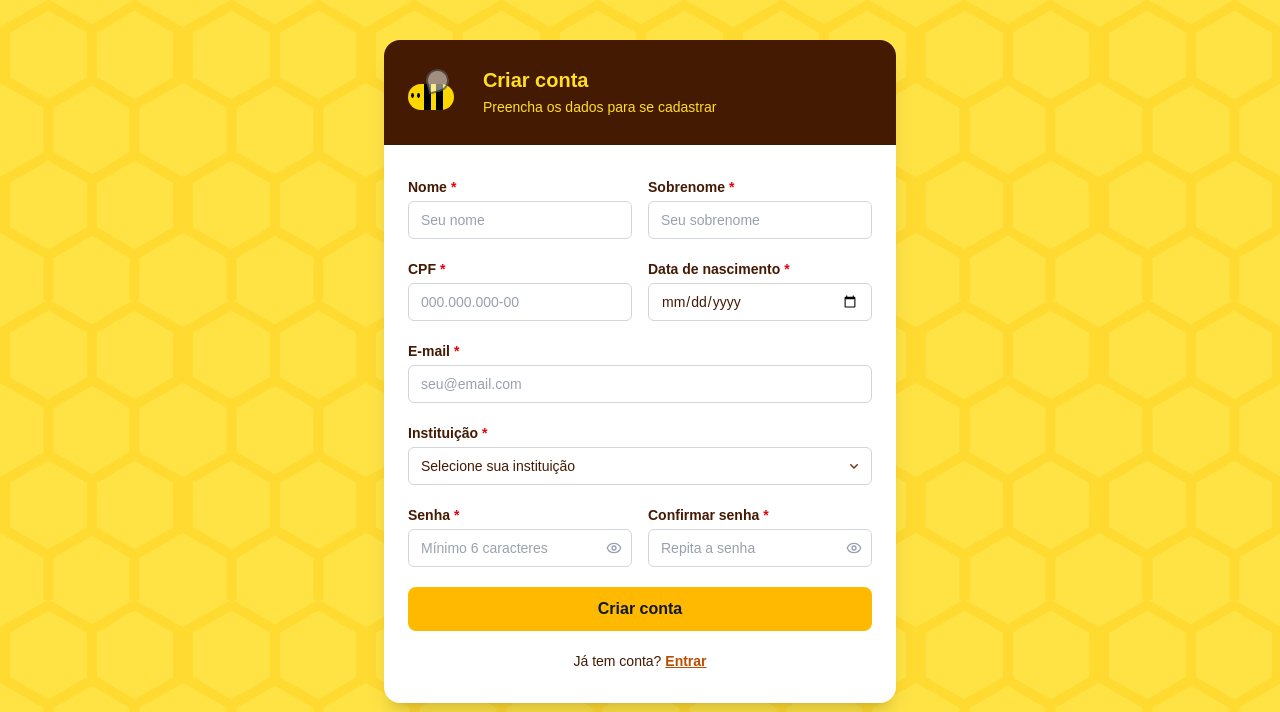
Test: Página de Cadastro — integração › valida e-mail inválido
Expected: the button "Criar conta" is shown, left=408, top=587, right=872, bottom=631
Type "Natália" into the field with id "nome" at [520, 220], box left=408, top=201, right=632, bottom=239
Type "Nogueira" into the field with id "sobrenome" at [760, 220], box left=648, top=201, right=872, bottom=239
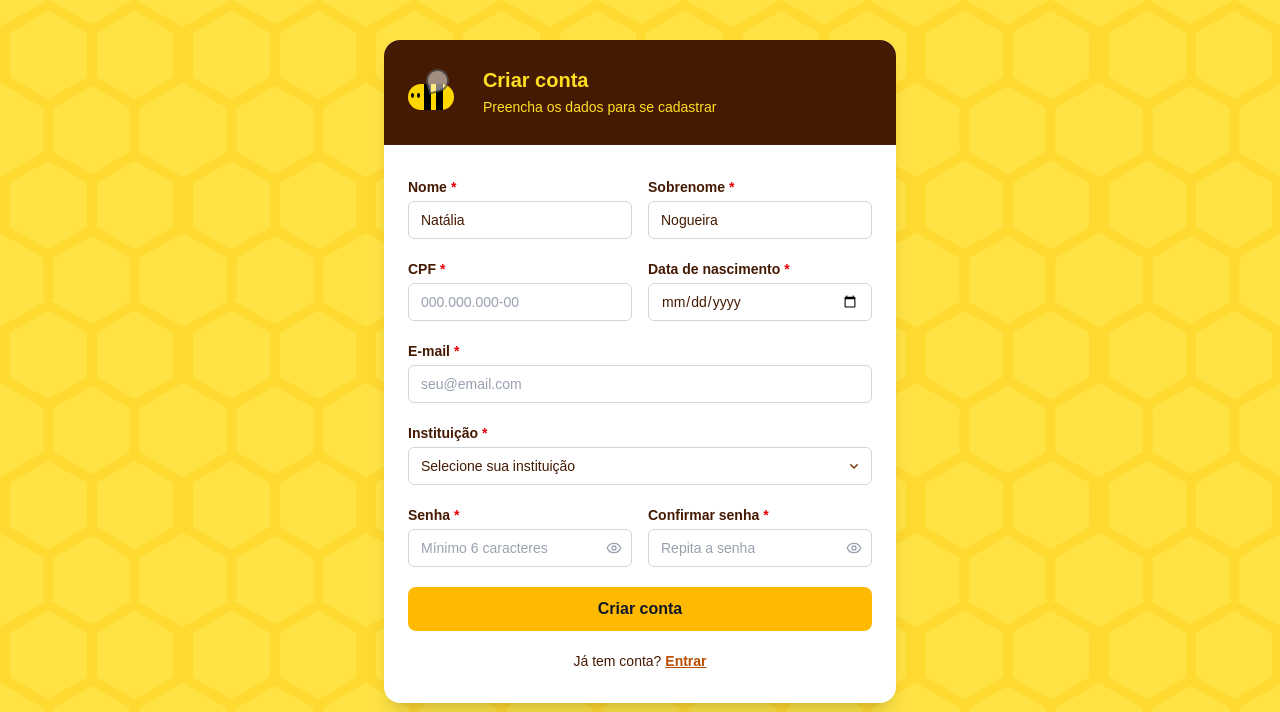
Type "16205343045" into the field with id "cpf" at [520, 302], box left=408, top=283, right=632, bottom=321
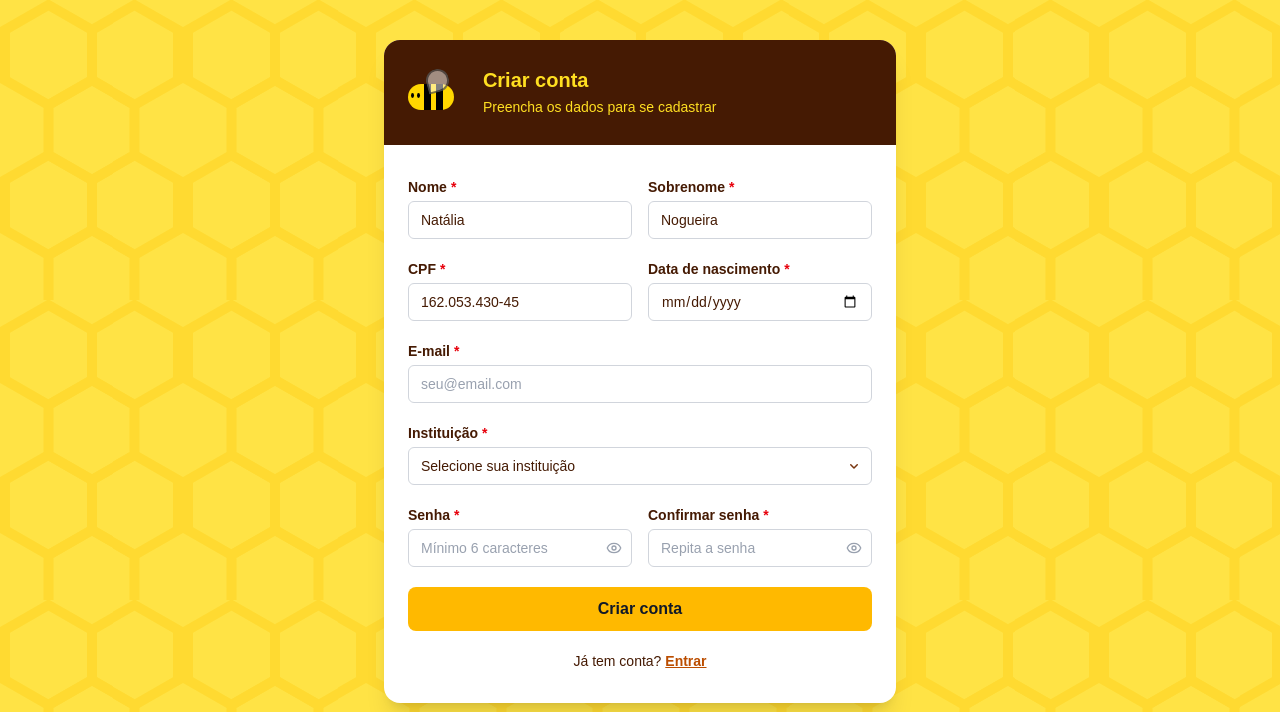
Type "2000-01-01" into the date field with id "dataNascimento" at [760, 302], box left=648, top=283, right=872, bottom=321
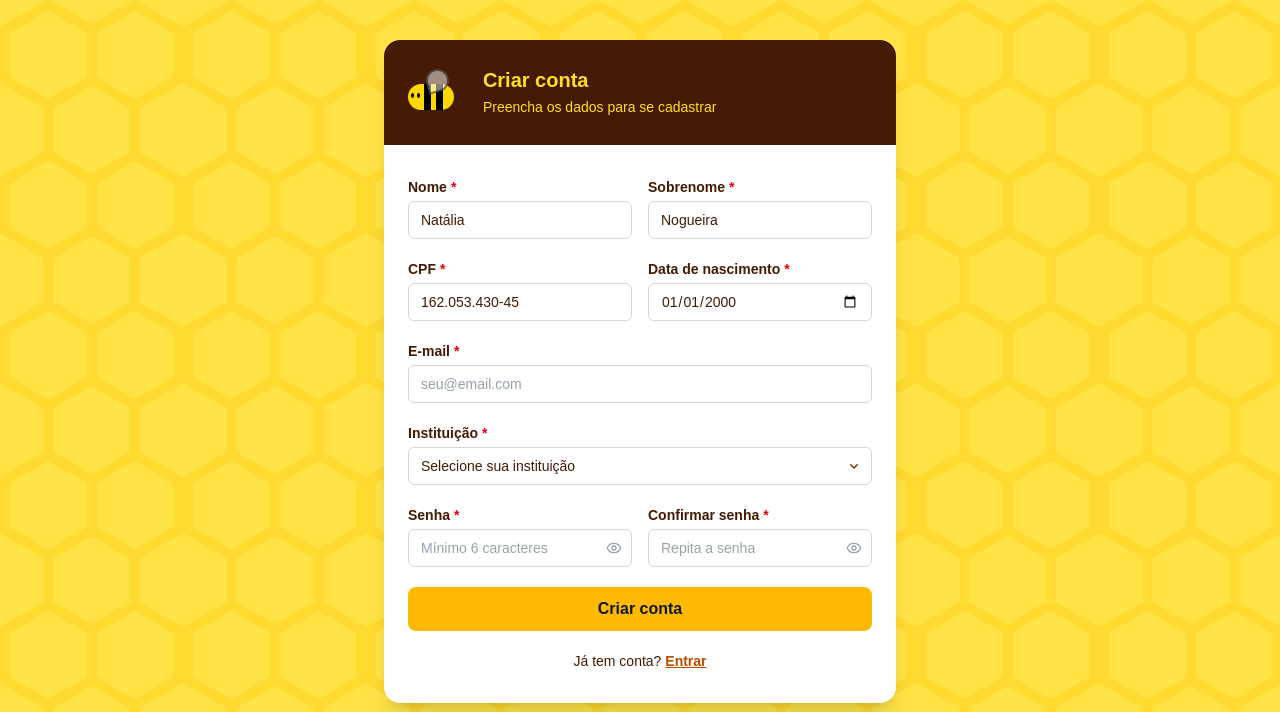
Type "emailinvalido" into the field with id "email" at [640, 384], box left=408, top=365, right=872, bottom=403
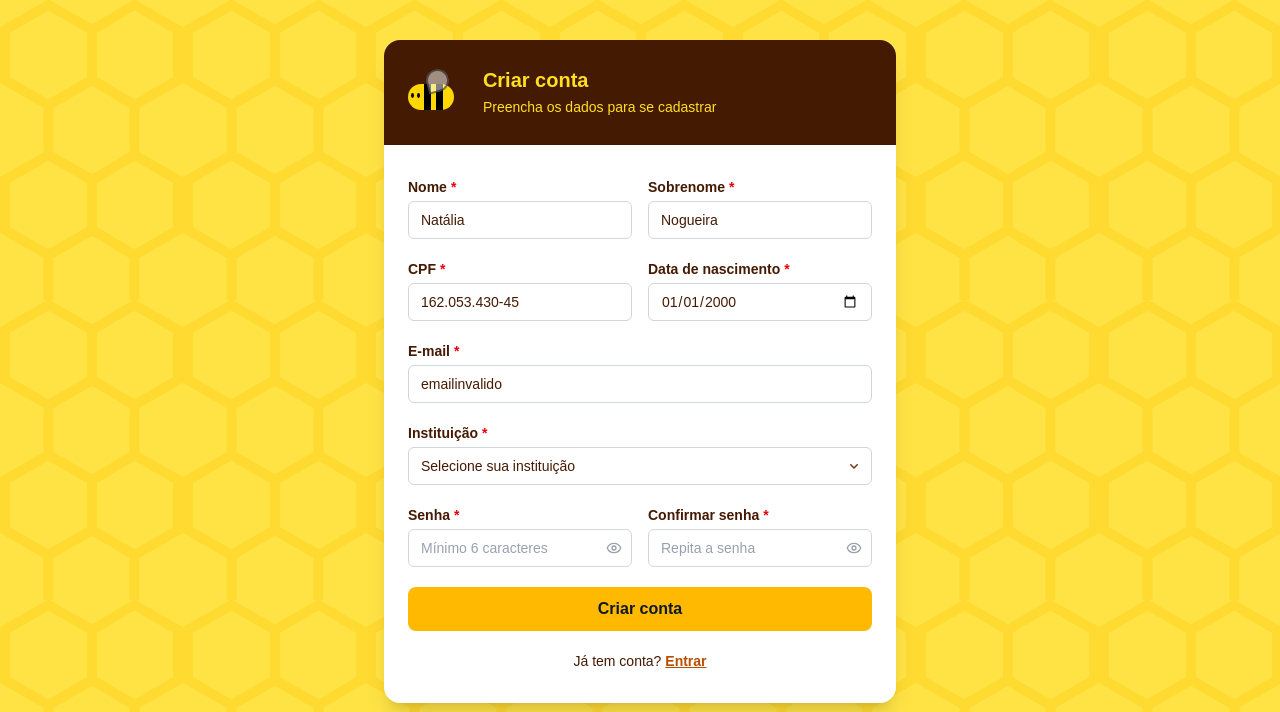
# Seleciona instituição para não travar antes do e-mail
Select "SENAI-SOR-1" in the dropdown with id "instituicao" at [640, 466], box left=408, top=447, right=872, bottom=485
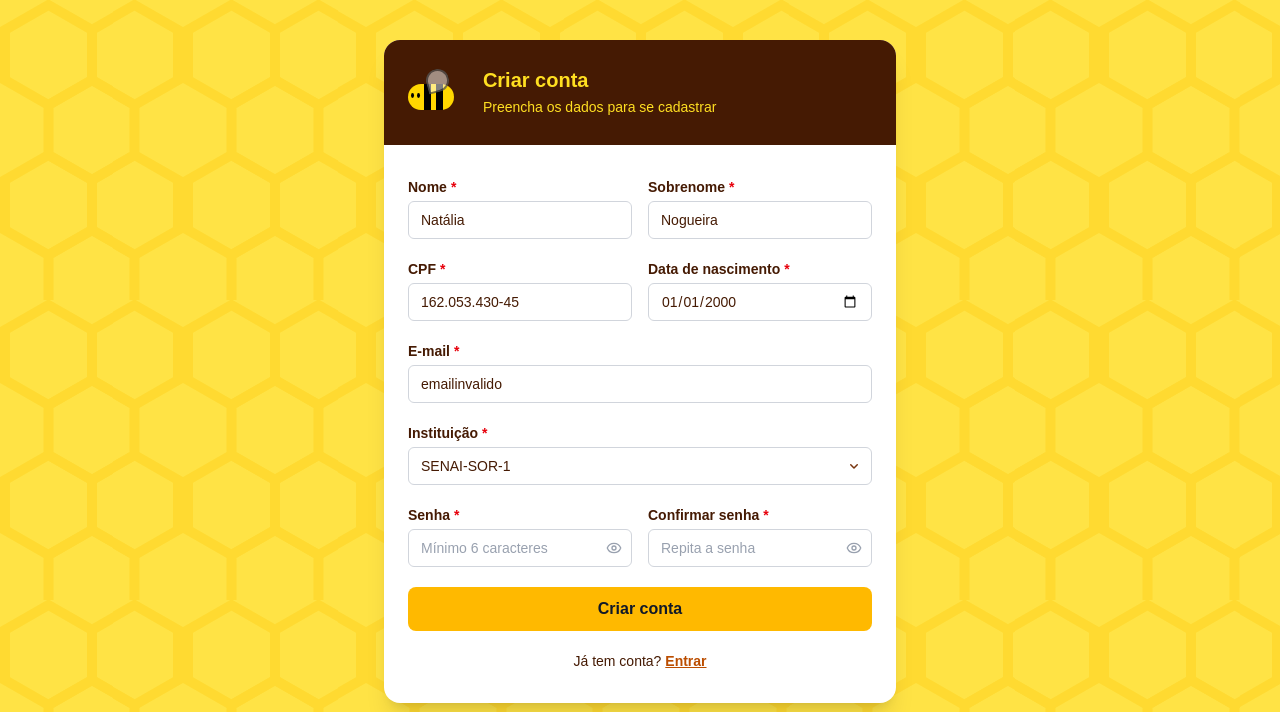
Click the button "Criar conta" at [640, 609], box left=408, top=587, right=872, bottom=631
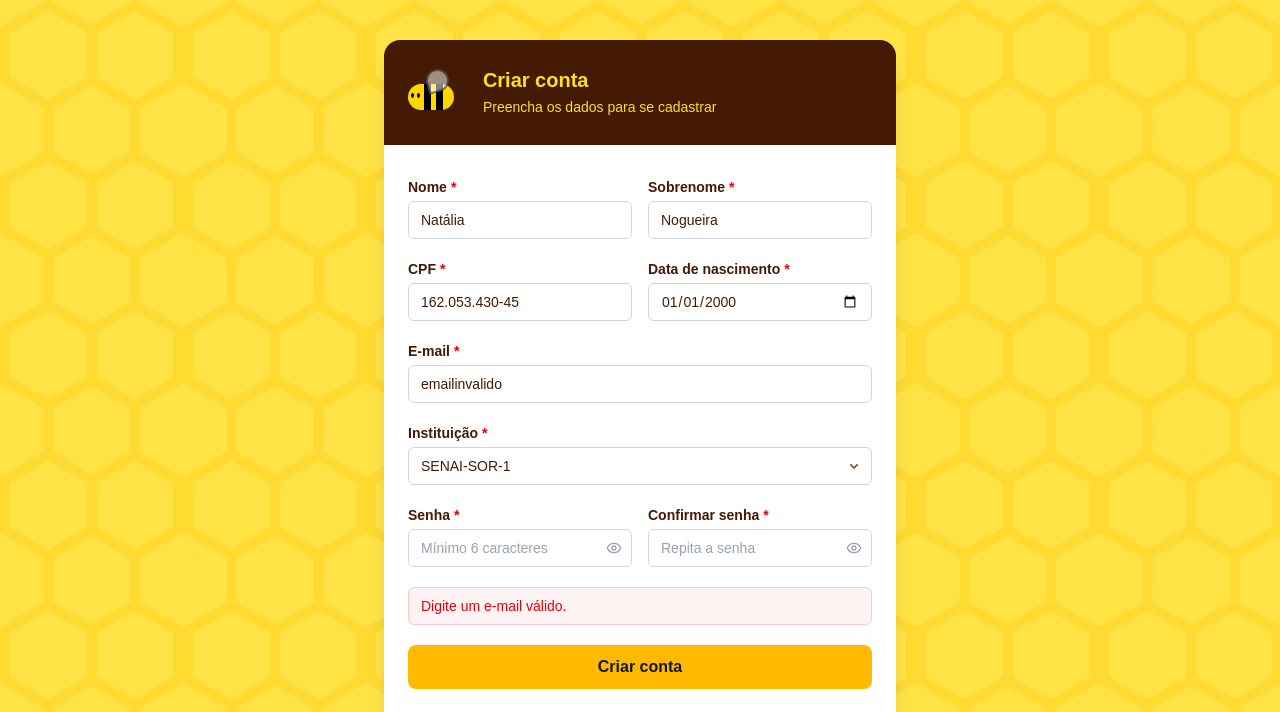
Expected: the message shows "e-mail válido", left=421, top=598, right=566, bottom=614
